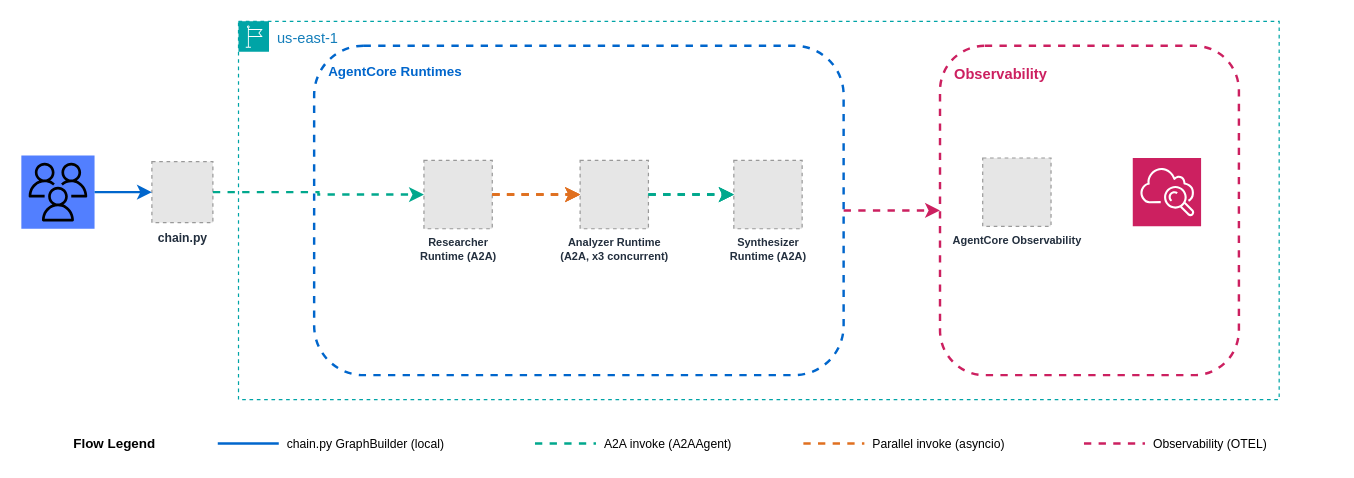
Some shapes in this 1354 by 478 pixel diagram are drawn without their labels. Grey dashed boxes stand in for pictures. The shapes that lost their labels are listed below. From the top down, each one's centre as x and y in pixels, then its label:
At point (57, 191): "User".
At point (1166, 191): "Amazon CloudWatch".
